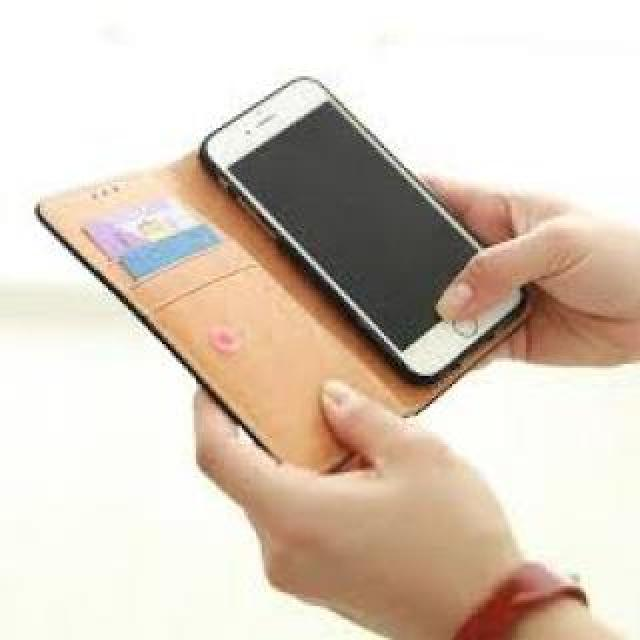smart phone: (203, 62, 527, 365)
